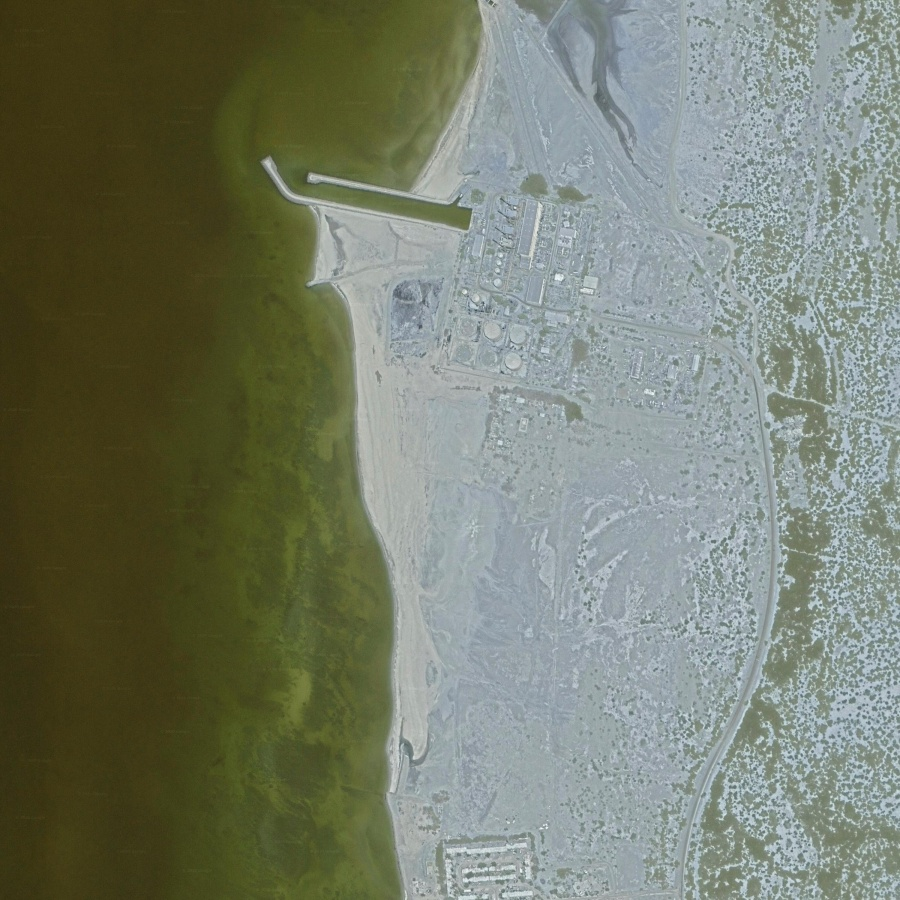PowerPlant: (379, 185, 607, 388)
